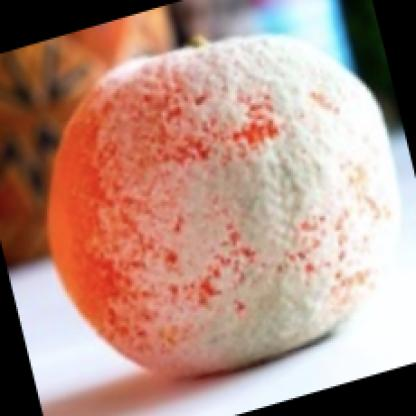rotten: (58, 35, 387, 371)
